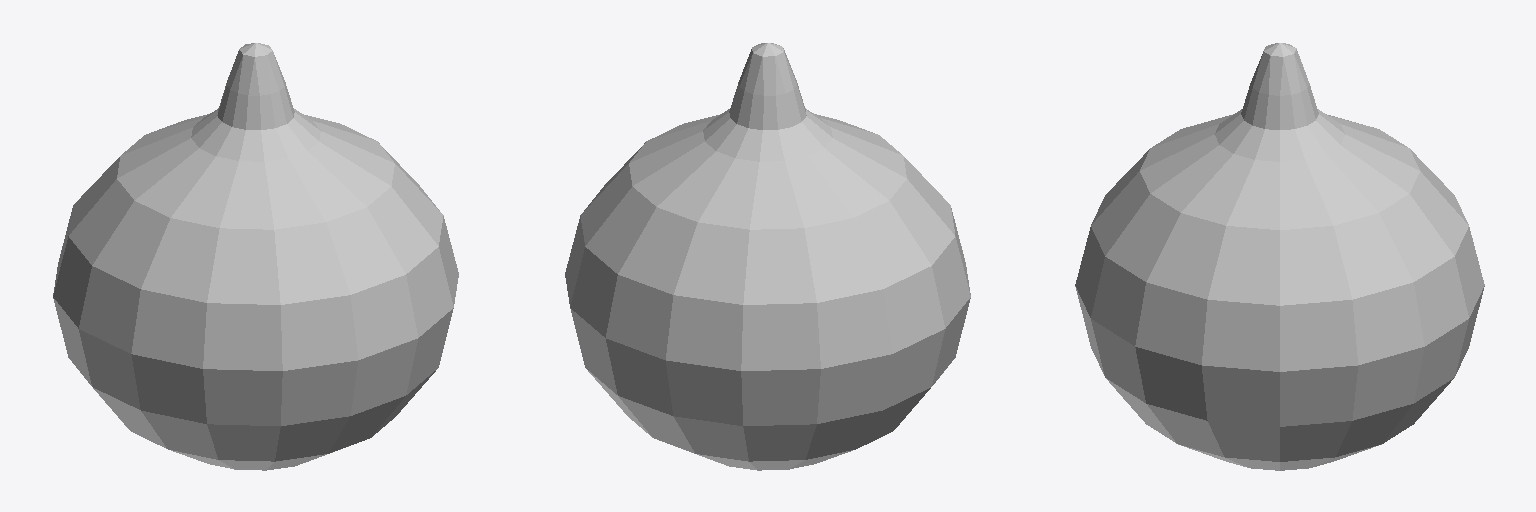
Rendered from food_ingredient_onion.obj.
3 renders of one model, left to right at view 1: azimuth 30°, elevation 25°; view 2: azimuth 150°, elevation 25°; view 3: azimuth 270°, elevation 25°, orthographic.
Visible parts, largest first — view 1: food_ingredient_onion_Sphere.022; view 2: food_ingredient_onion_Sphere.022; view 3: food_ingredient_onion_Sphere.022.
Part boxes in pixels (left/top/right/bottom): food_ingredient_onion_Sphere.022: left=53, top=43, right=458, bottom=470; food_ingredient_onion_Sphere.022: left=565, top=43, right=970, bottom=470; food_ingredient_onion_Sphere.022: left=1075, top=43, right=1484, bottom=470.
Bounding box in the file's own units: 0.75 × 0.8624 × 0.75.